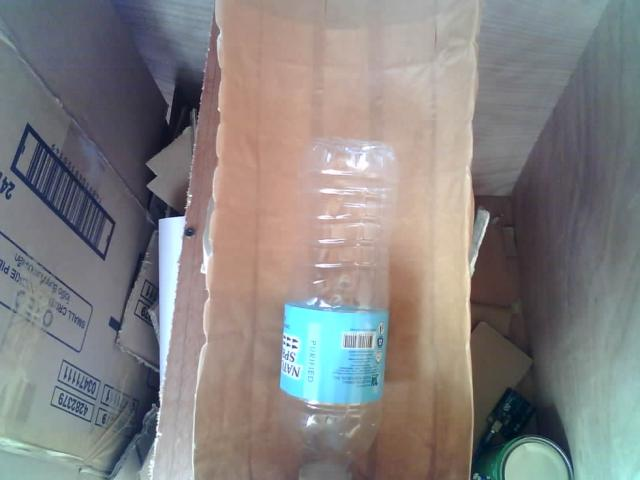small_bottle: (262, 118, 412, 480)
